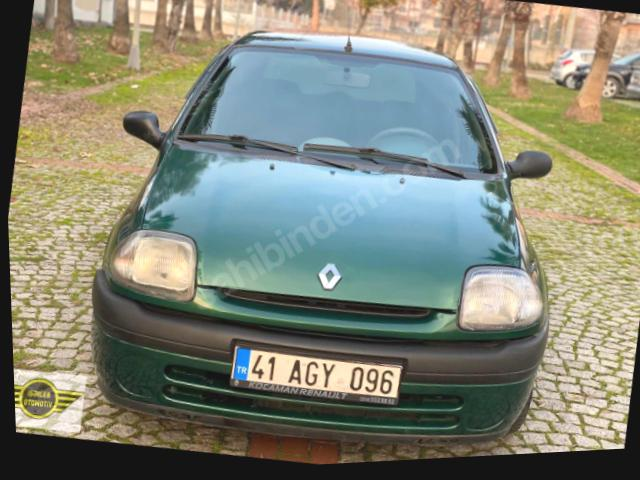plaka: (230, 346, 402, 405)
